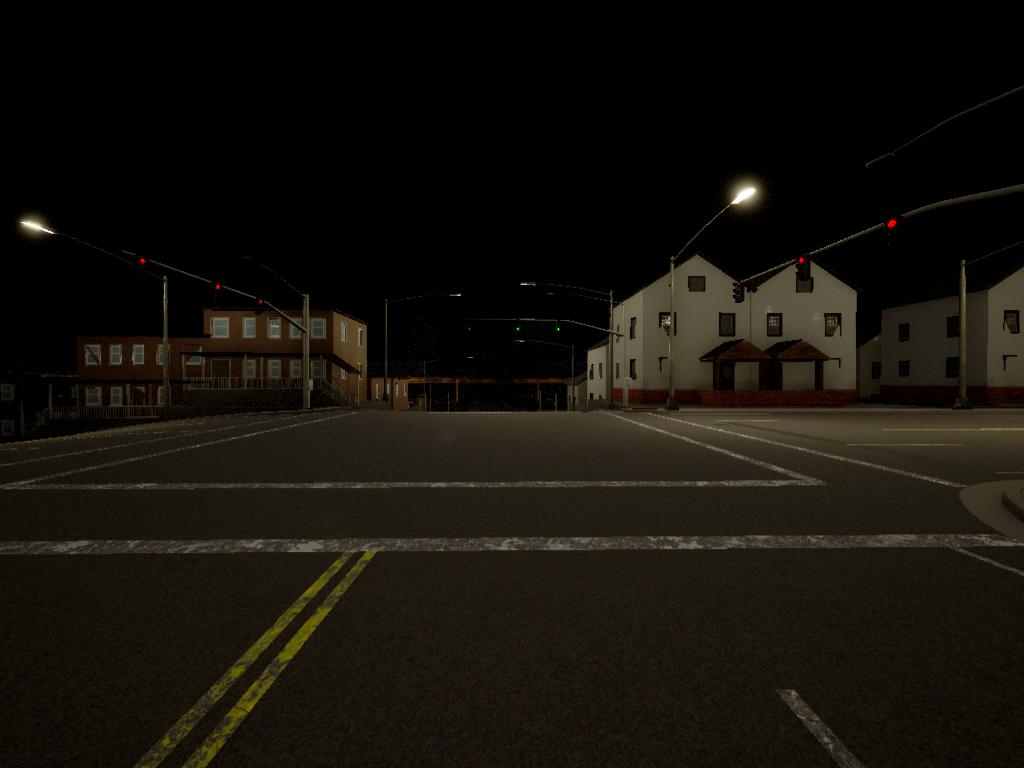traffic_light: (796, 253, 812, 294), (884, 215, 902, 248), (734, 282, 744, 304), (212, 281, 223, 297), (138, 256, 148, 272), (257, 297, 265, 315), (516, 323, 522, 334), (556, 324, 562, 334), (466, 324, 473, 331)
